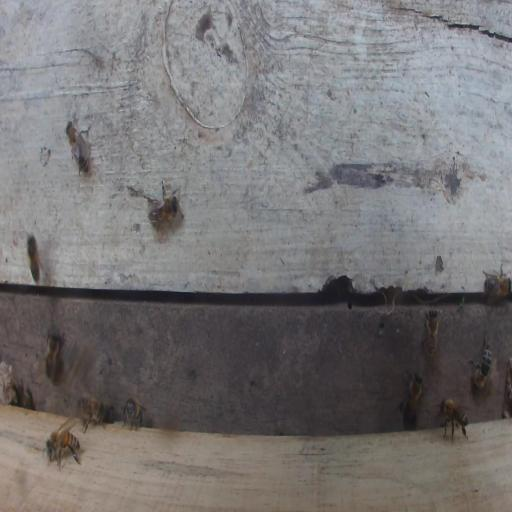bee: (143, 179, 184, 233), (44, 415, 83, 470), (395, 367, 426, 433), (65, 113, 92, 176), (76, 394, 115, 435), (438, 395, 470, 443), (467, 329, 492, 390), (479, 262, 512, 307), (421, 306, 440, 366), (22, 224, 40, 285), (45, 327, 65, 381), (121, 395, 147, 432)
